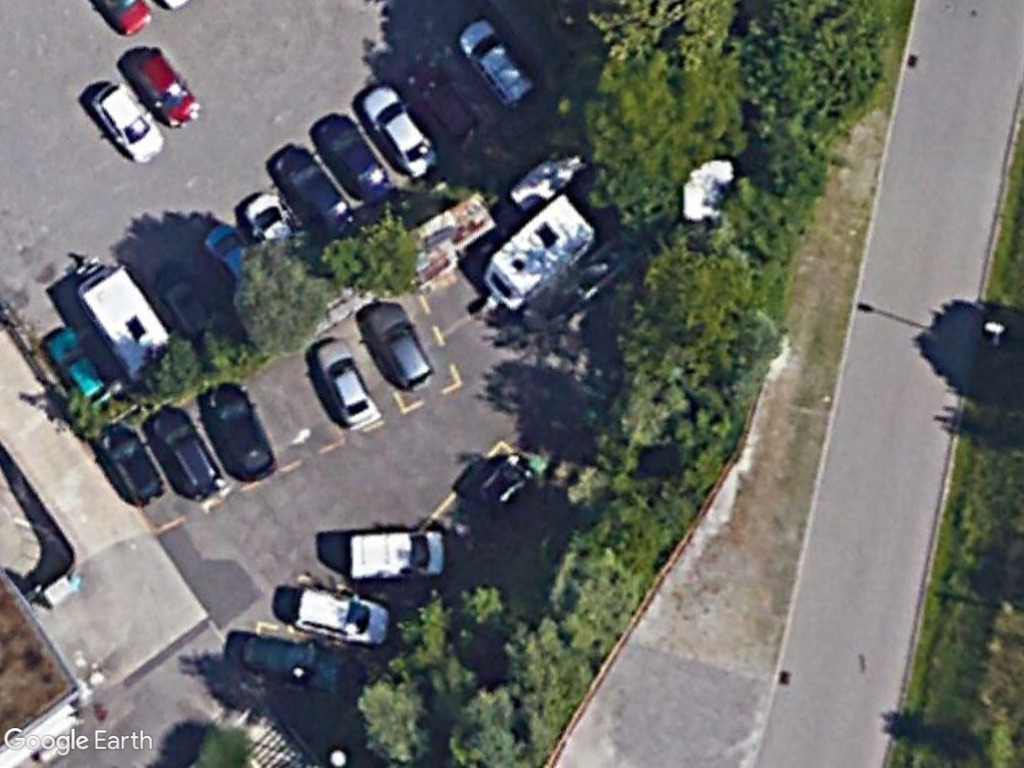car: (355, 79, 444, 179), (452, 15, 539, 109), (207, 379, 278, 484), (149, 407, 226, 500), (363, 297, 437, 393), (87, 80, 170, 165), (314, 114, 393, 203), (123, 47, 201, 130), (291, 584, 393, 647), (38, 325, 114, 409), (312, 338, 378, 431)
van: (348, 524, 447, 583)
